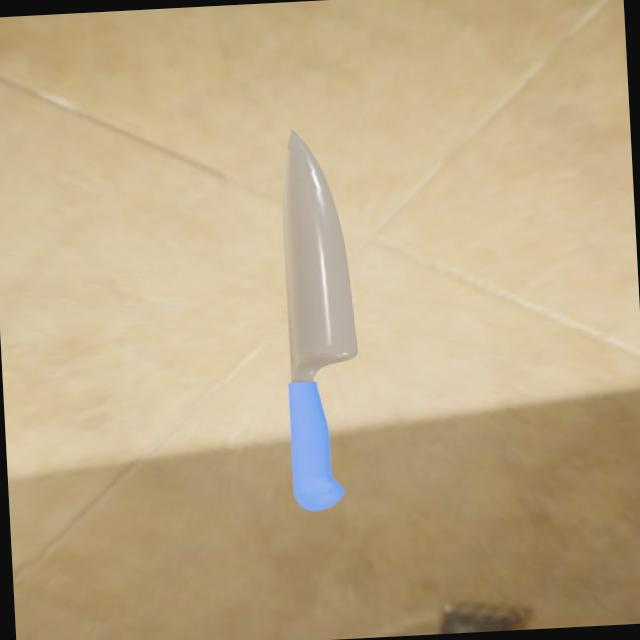knife: (288, 377, 346, 511)
